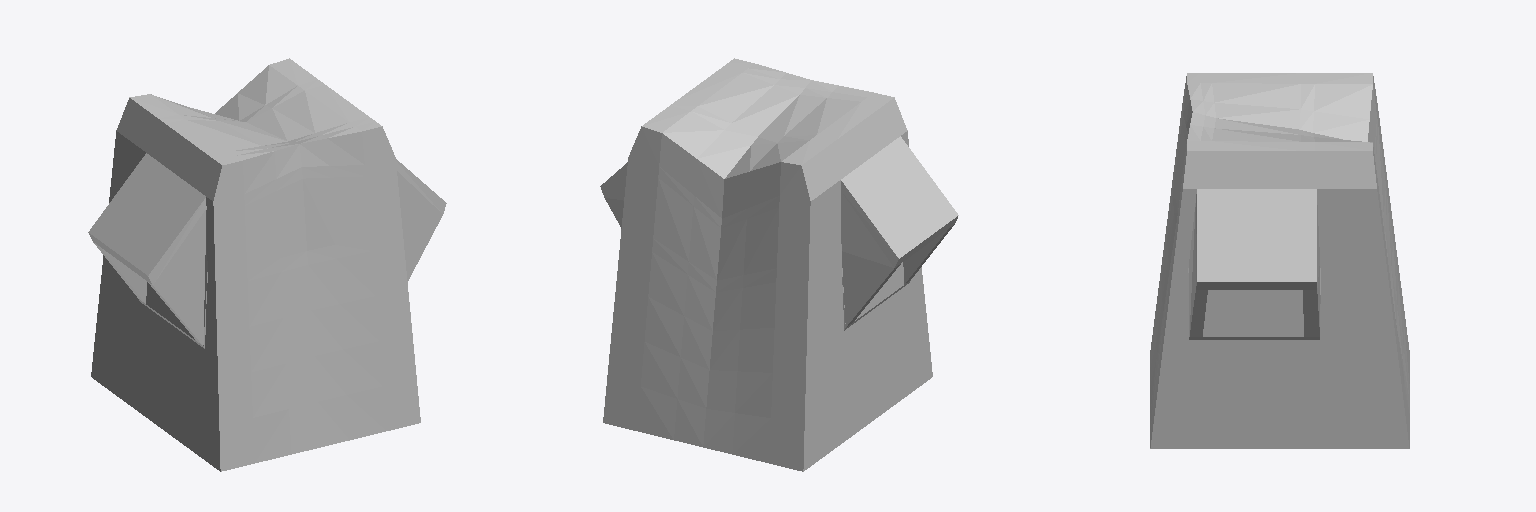
The model's file is shirt.obj.
3 renders of one model, left to right at view 1: azimuth 30°, elevation 25°; view 2: azimuth 150°, elevation 25°; view 3: azimuth 270°, elevation 25°, orthographic.
Visible parts, largest first — view 1: shirt; view 2: shirt; view 3: shirt.
Boxes of the visible parts, <box> form: shirt: <box>88,58,446,471</box>; shirt: <box>600,58,958,471</box>; shirt: <box>1150,73,1409,448</box>.
Size of the model in its own units: 16.01 by 14.75 by 12.03.